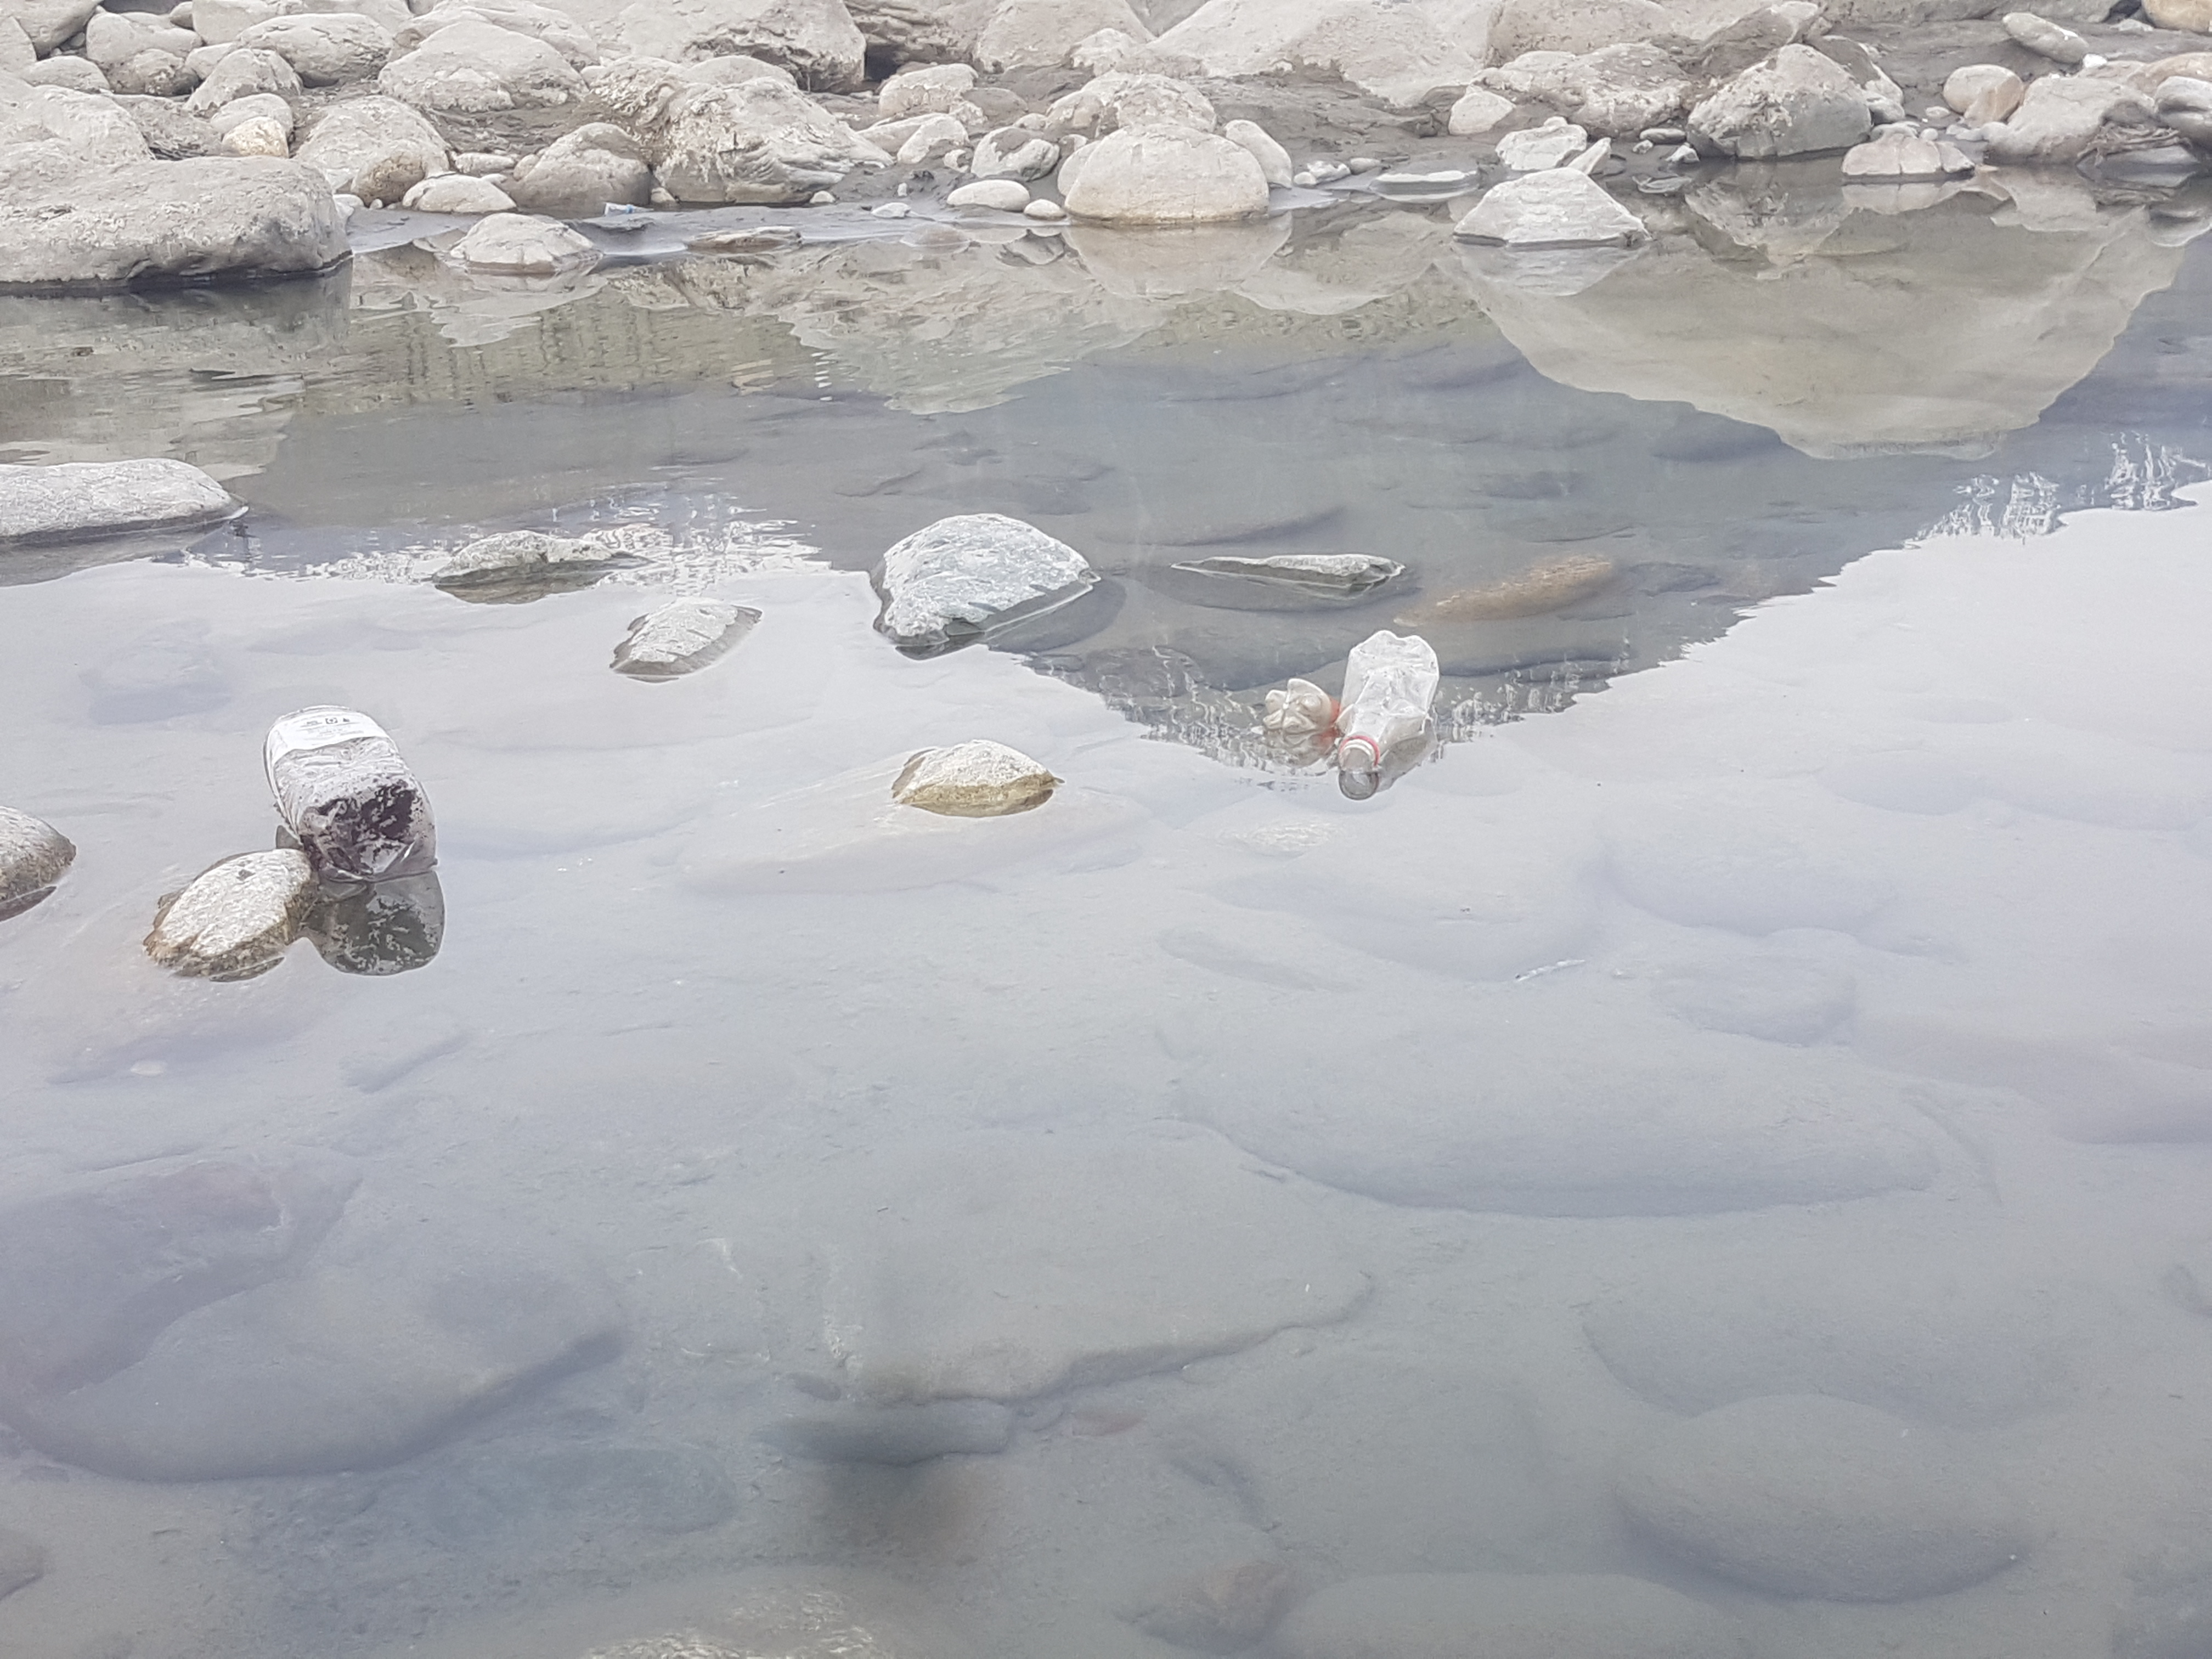Plastic Bottle: (265, 702, 437, 882), (1336, 629, 1440, 779), (1259, 674, 1338, 739), (604, 202, 653, 214)
